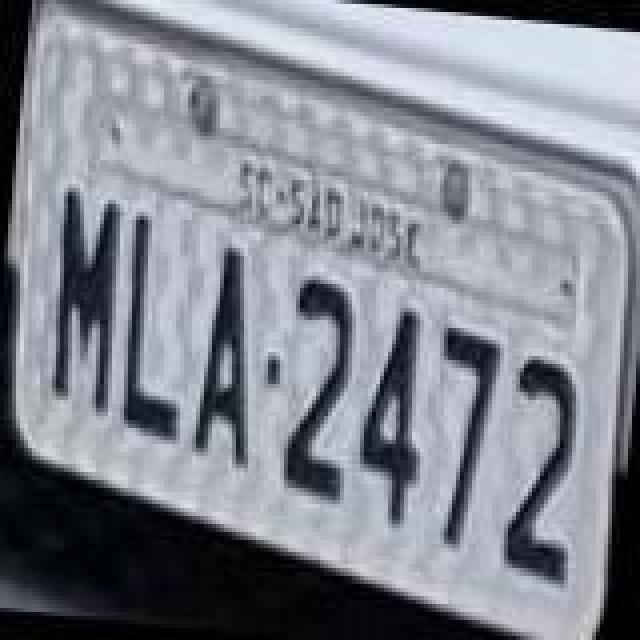2: (496, 352, 592, 592), (274, 276, 366, 508)
4: (350, 302, 434, 530)
7: (420, 320, 508, 552)
A: (190, 244, 274, 476)
L: (110, 210, 202, 446)
M: (42, 186, 134, 422)
